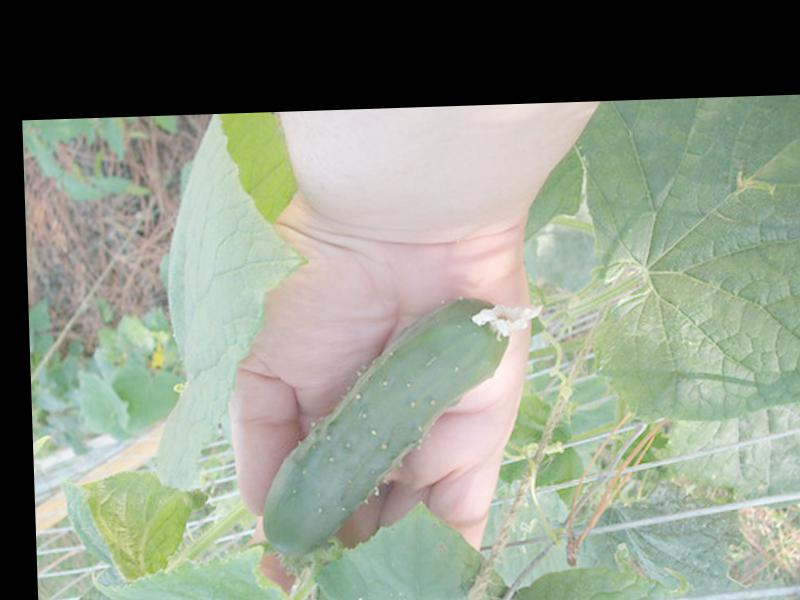Cucumber: (257, 296, 552, 556)
